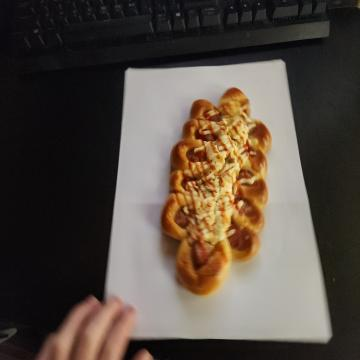pizza_bread: (162, 86, 272, 296)
